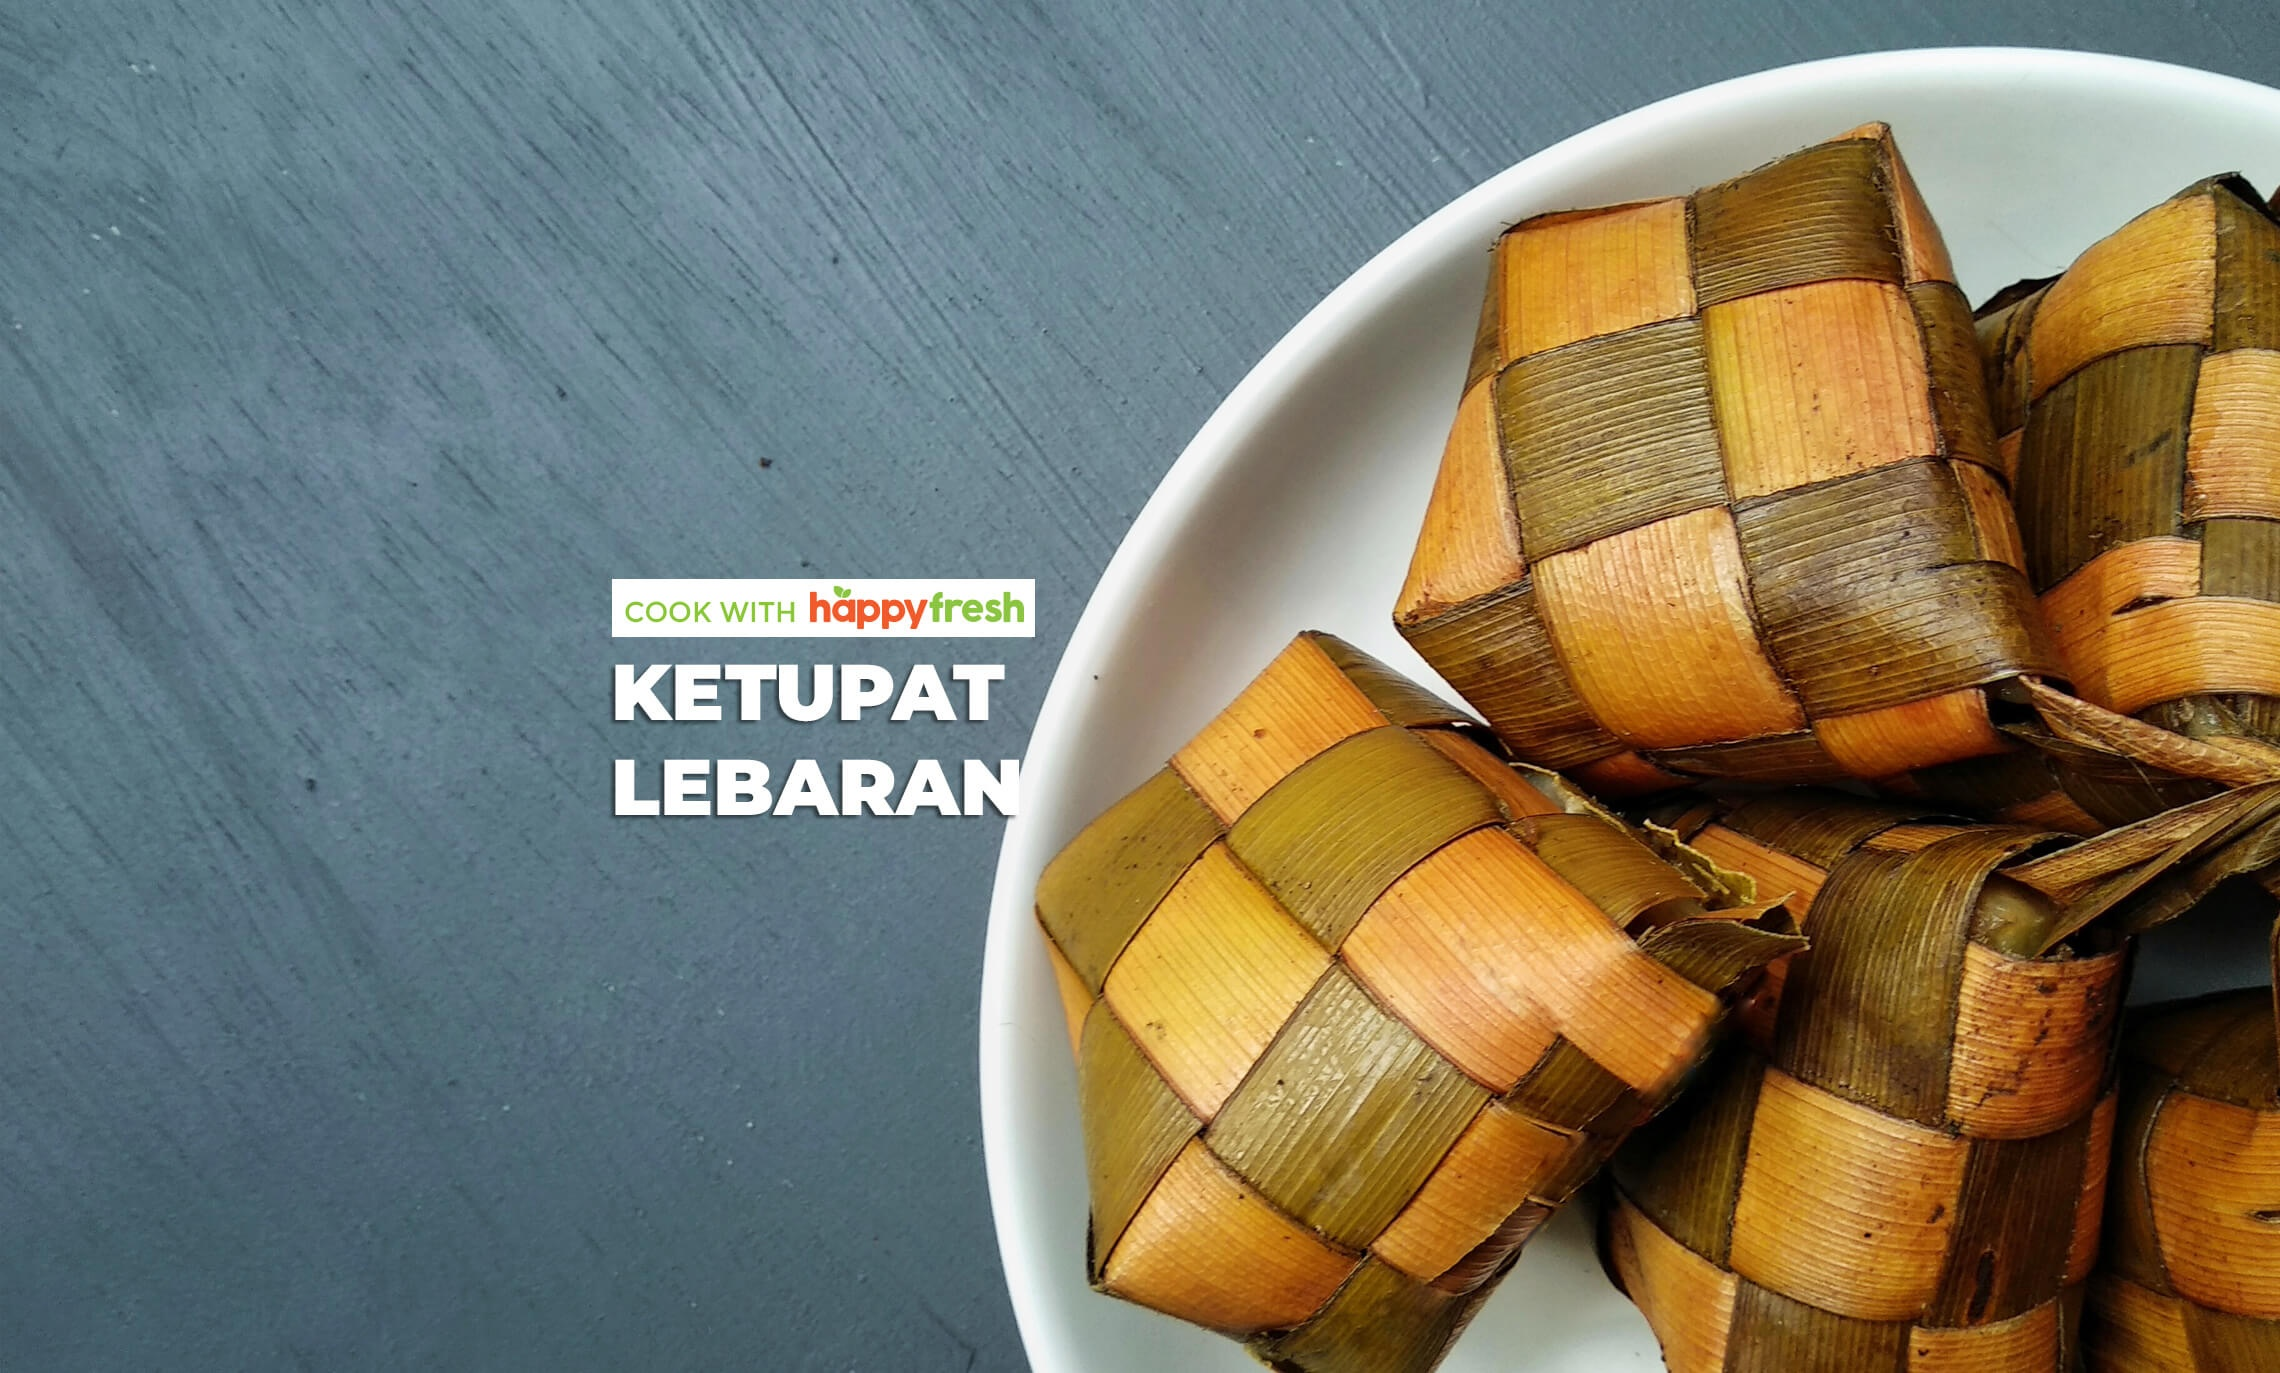ketupat: (1029, 624, 1788, 1371), (1391, 116, 2052, 785)
